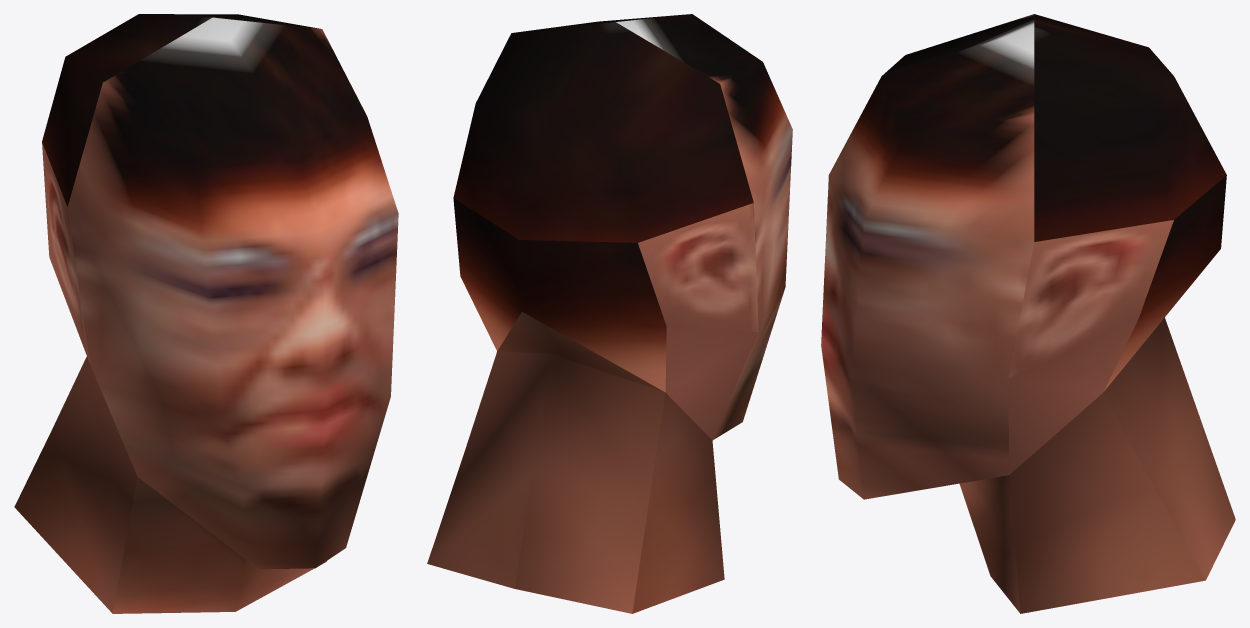
The model's file is head.fbx.
The picture shows the model from 3 angles, left to right: view 1: azimuth 30°, elevation 25°; view 2: azimuth 150°, elevation 25°; view 3: azimuth 270°, elevation 25°; orthographic projection. The views are drawn at different scales.
Parts seen in each view (by area): view 1: Cube.002; view 2: Cube.002; view 3: Cube.002.
Boxes of the visible parts, <box> form: Cube.002: <box>14,14,398,613</box>; Cube.002: <box>427,14,792,613</box>; Cube.002: <box>821,14,1235,613</box>.
Bounding box in the file's own units: 1.17 × 2.22 × 1.52.
